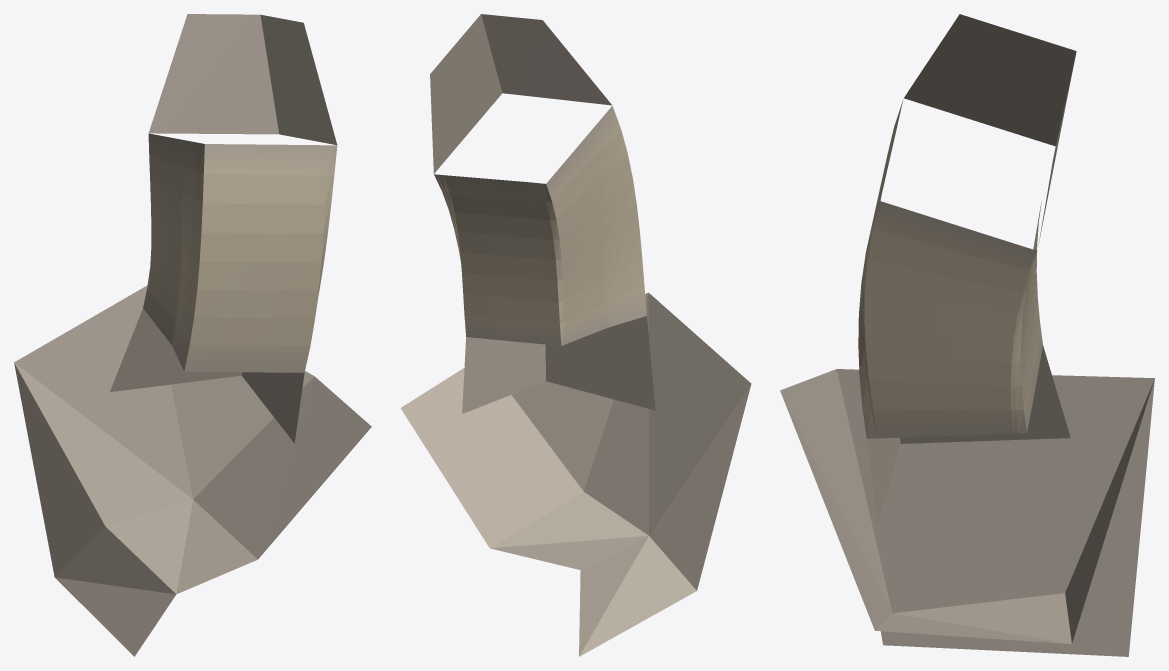
File: field-arm-11-0.glb
The picture shows the model from 3 angles, left to right: view 1: azimuth 30°, elevation 25°; view 2: azimuth 150°, elevation 25°; view 3: azimuth 270°, elevation 25°; orthographic projection. The views are drawn at different scales.
Visible parts, largest first — view 1: world; view 2: world; view 3: world.
Boxes of the visible parts, x1,y1,x2,y2 form: world: [14, 14, 371, 656]; world: [400, 14, 751, 656]; world: [780, 14, 1154, 656].
Size of the model in its own units: 16 by 31.7 by 15.23.
